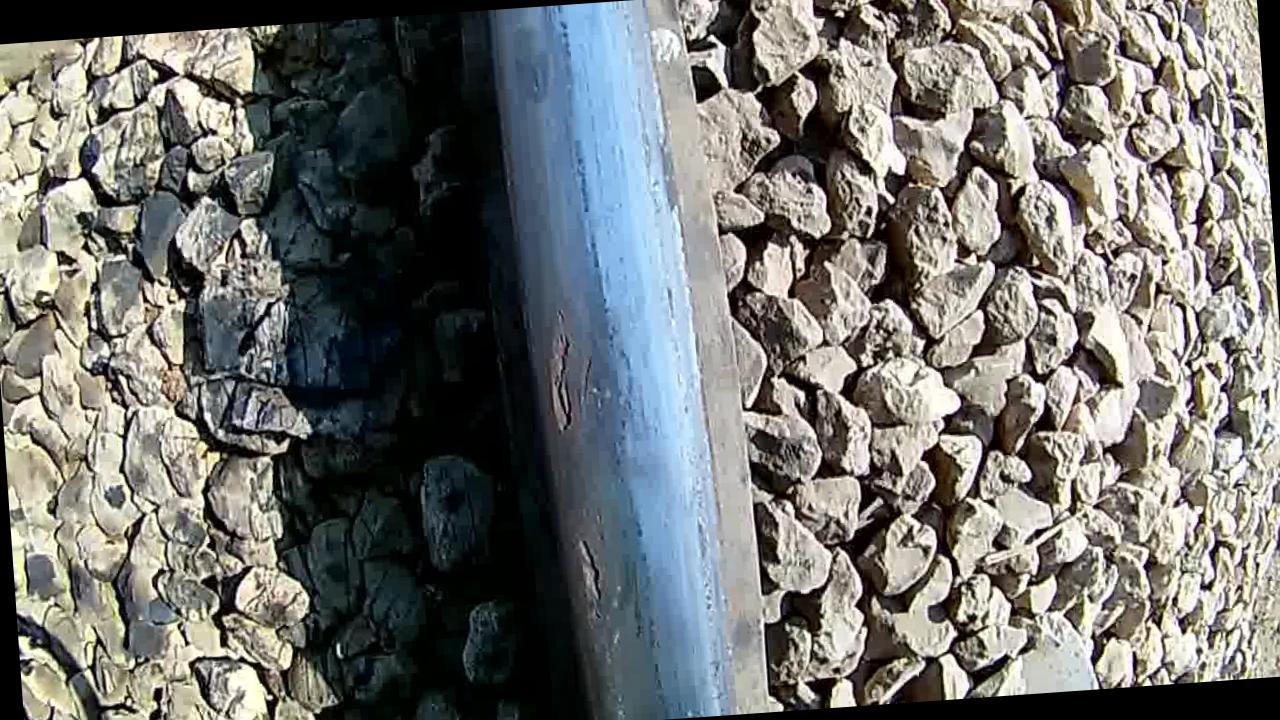crack: (499, 0, 689, 720)
